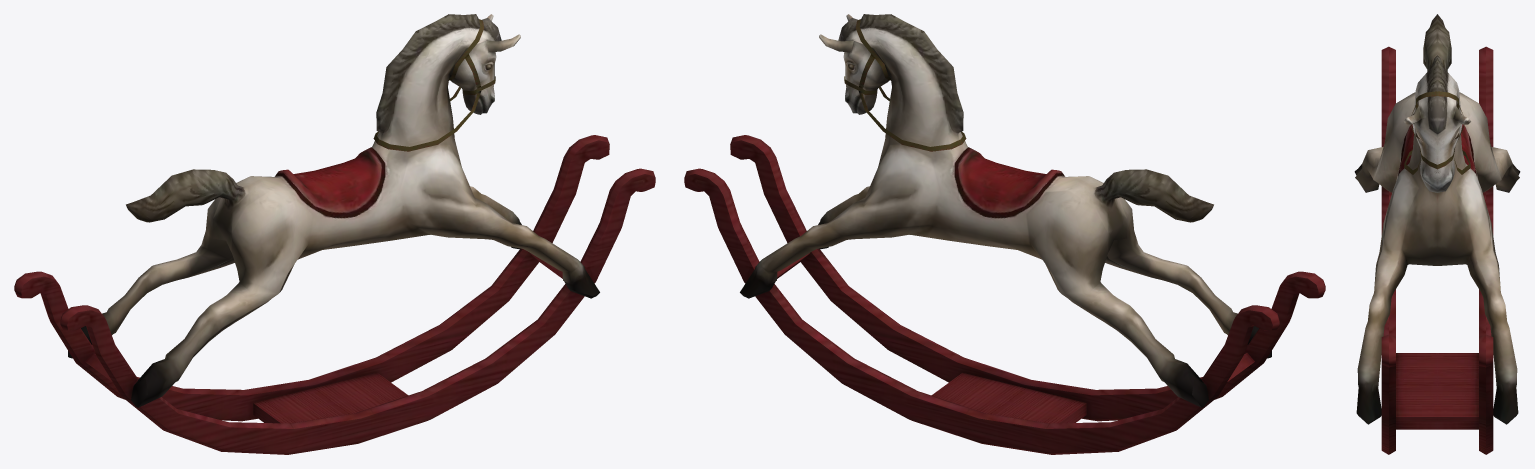
Rendered from jugu_rocking_horse.glb.
3 views of the same model, side by side, from view 1: azimuth 30°, elevation 25°; view 2: azimuth 150°, elevation 25°; view 3: azimuth 270°, elevation 25° (orthographic). The views are drawn at different scales.
Visible parts, largest first — view 1: Pferd_low_01 - Default_0; view 2: Pferd_low_01 - Default_0; view 3: Pferd_low_01 - Default_0.
Part boxes in pixels (left/top/right/bottom): Pferd_low_01 - Default_0: left=14, top=14, right=655, bottom=454; Pferd_low_01 - Default_0: left=684, top=14, right=1325, bottom=454; Pferd_low_01 - Default_0: left=1354, top=14, right=1520, bottom=454.
Size of the model in its own units: 1.1 by 0.6797 by 0.2513.
1 material, 1 textured.
